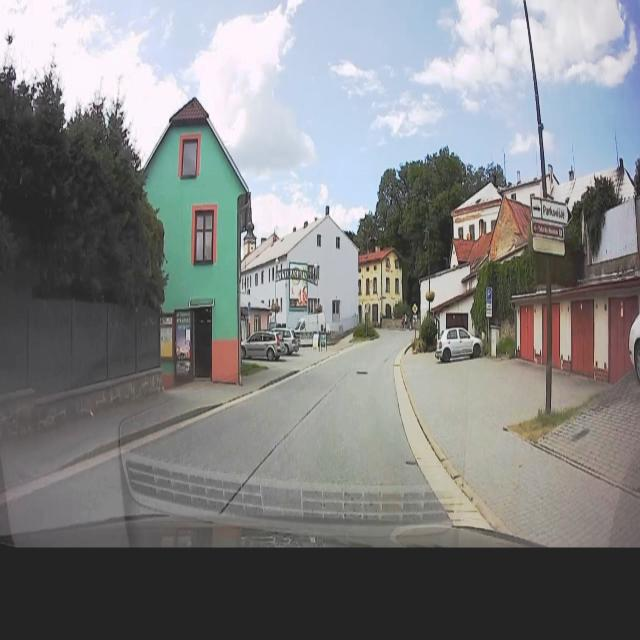Priority road: (411, 302, 418, 314)
